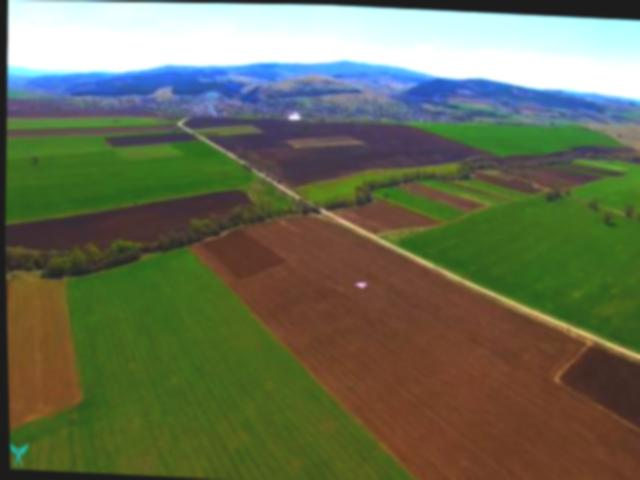uav: (352, 273, 369, 293)
